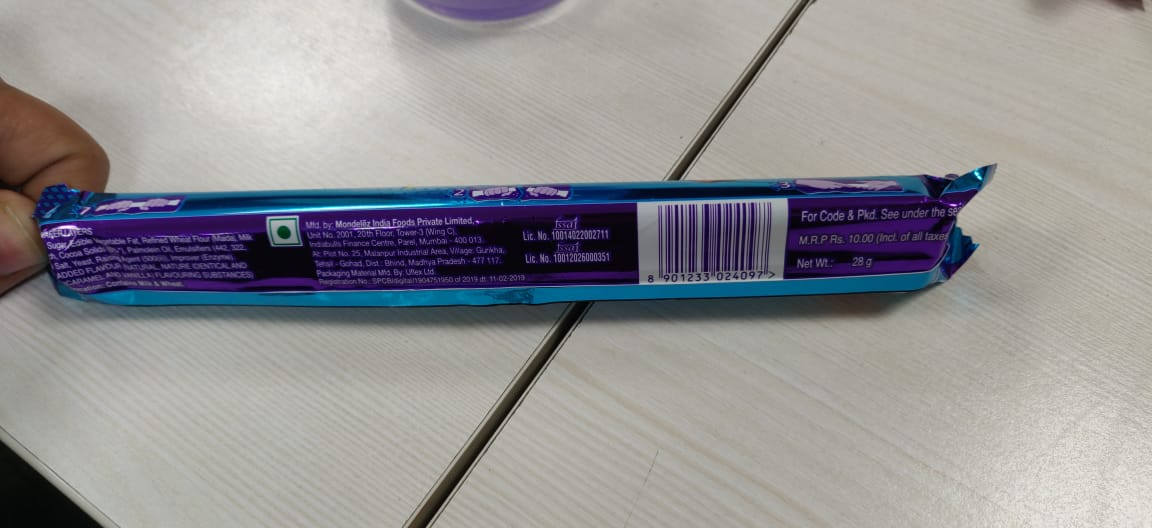perk: (27, 159, 1008, 319)
